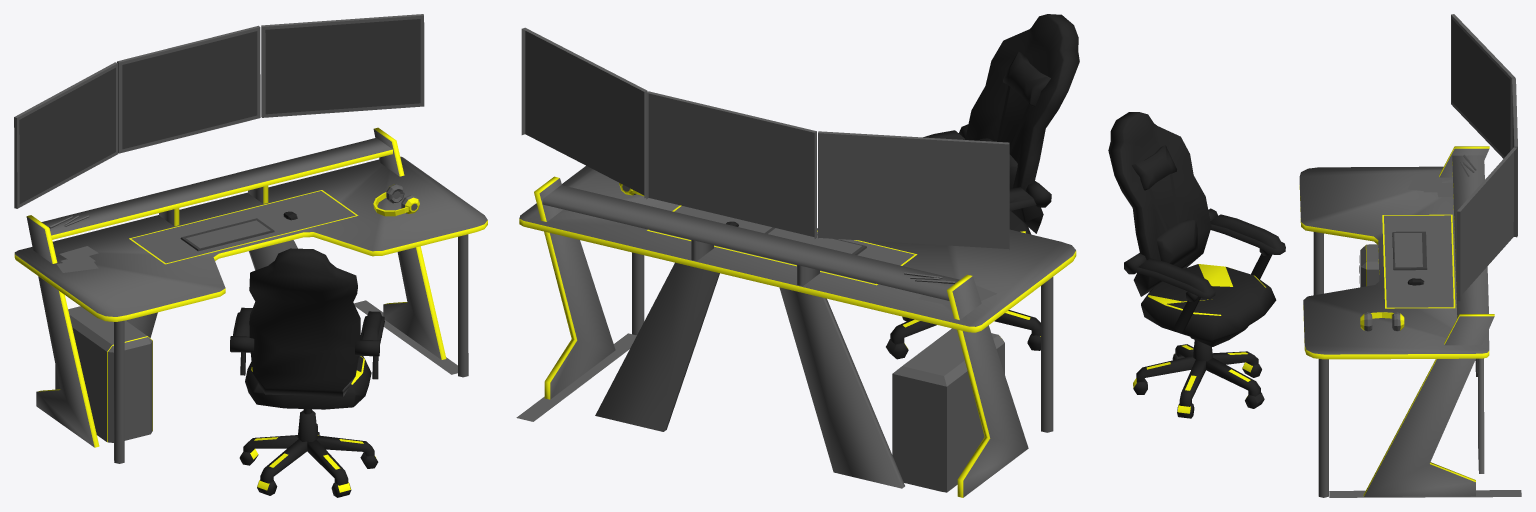
Rendered from GamingSetup3.fbx.
3 renders of one model, left to right at view 1: azimuth 30°, elevation 25°; view 2: azimuth 150°, elevation 25°; view 3: azimuth 270°, elevation 25°, orthographic. The views are drawn at different scales.
Parts seen in each view (by area): view 1: GamingSetup3; view 2: GamingSetup3; view 3: GamingSetup3.
Boxes of the visible parts, x1,y1,x2,y2 form: GamingSetup3: (14,14,487,497); GamingSetup3: (516,14,1079,497); GamingSetup3: (1108,14,1521,497).
Bounding box in the file's own units: 96.86 × 68.33 × 85.41.
